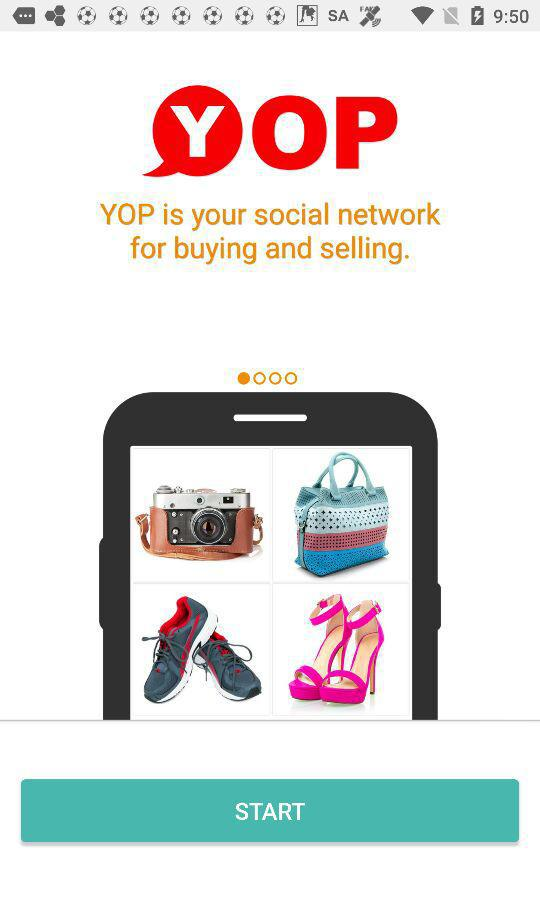Image: (99, 392, 442, 720), (142, 85, 398, 178)
PageIndicator: (237, 371, 300, 386)
Text: (100, 202, 441, 266)
TextButton: (22, 779, 519, 842)
UpperTaskBar: (1, 1, 540, 33)
